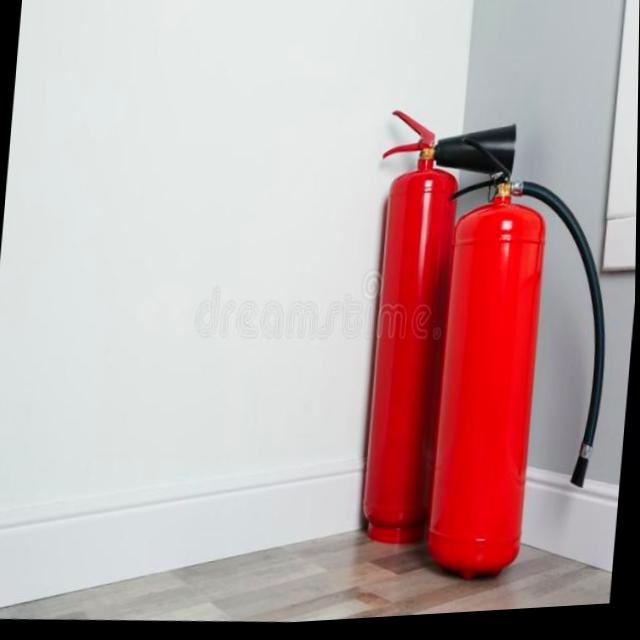FireExtinguisher: (414, 120, 629, 601), (345, 95, 521, 564)
